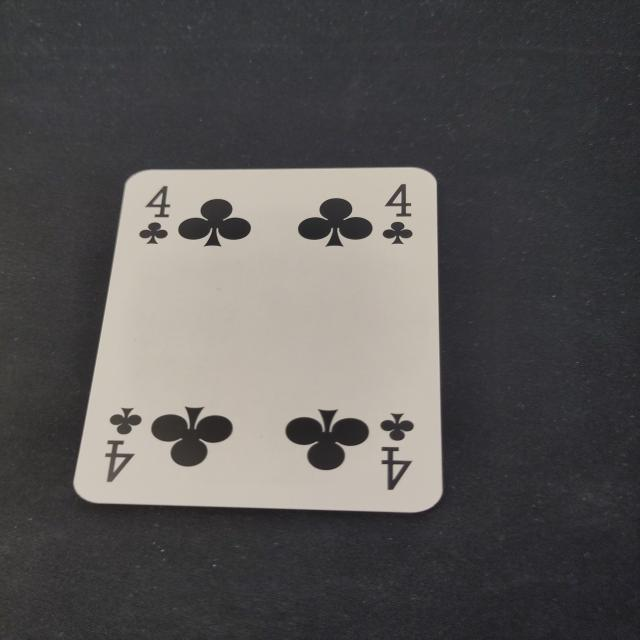4c: (371, 406, 423, 499), (94, 399, 146, 490), (133, 182, 176, 253), (378, 178, 417, 252)
